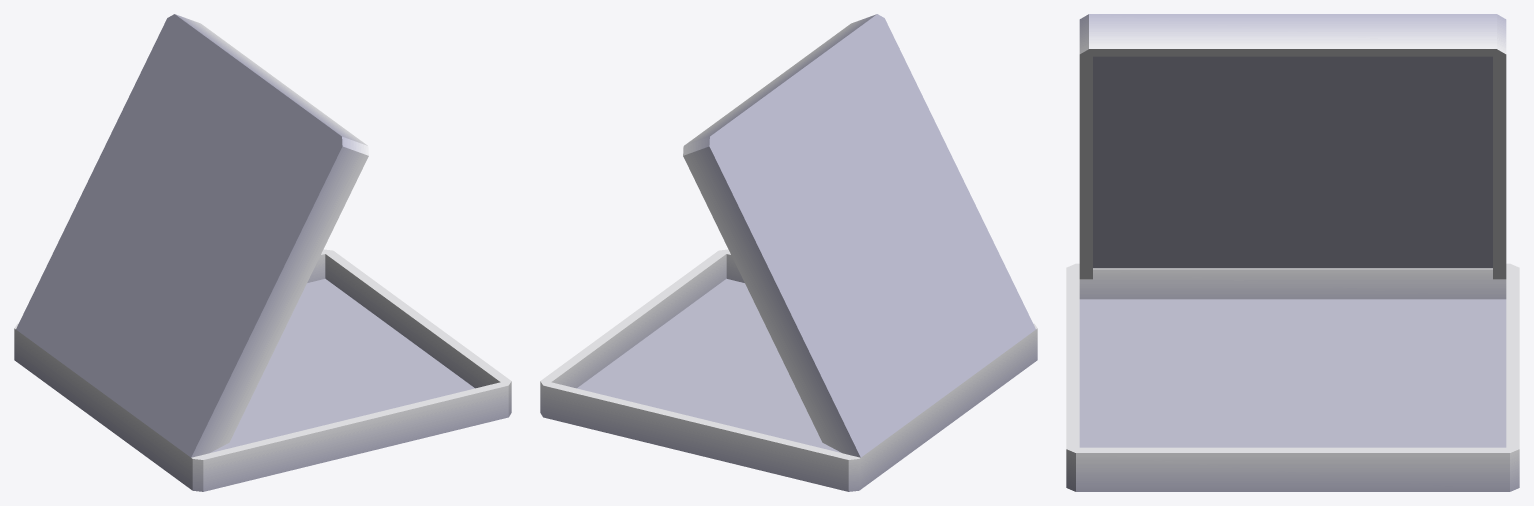
File: PizzaBox.obj
3 renders of one model, left to right at view 1: azimuth 30°, elevation 25°; view 2: azimuth 150°, elevation 25°; view 3: azimuth 270°, elevation 25°, orthographic. The views are drawn at different scales.
Visible parts, largest first — view 1: lid, pizza_box; view 2: lid, pizza_box; view 3: lid, pizza_box.
Boxes of the visible parts, x1,y1,x2,y2 form: lid: (16, 14, 368, 457); pizza_box: (14, 249, 511, 491); lid: (683, 14, 1035, 457); pizza_box: (540, 249, 1037, 491); lid: (1079, 14, 1506, 279); pizza_box: (1066, 263, 1519, 491).
Bounding box in the file's own units: 0.3296 × 0.3086 × 0.3331.
1 material, 1 textured.
